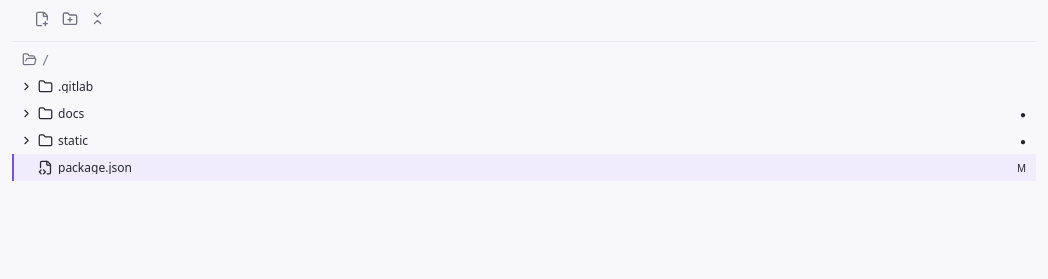
Test: decorates changed files and collapsed ancestors without relying on color alone
This screenshot has width=1048, height=279.
Check: the list item "package.json" shows "M", box [12, 154, 1036, 181]
Click the list item "docs" at (26, 114), box [12, 100, 1036, 127]
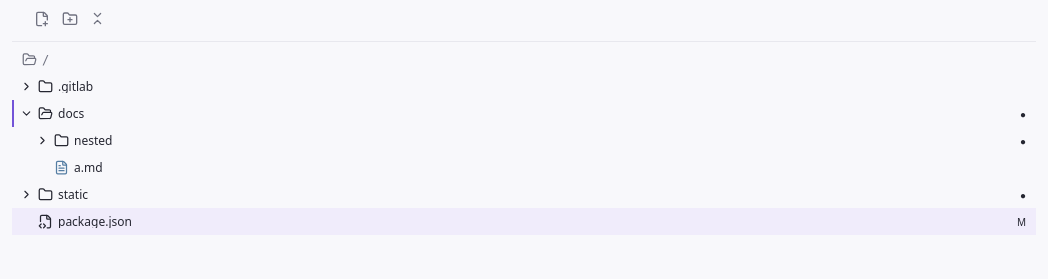
Click the list item "nested" at (93, 140), box [12, 127, 1036, 154]
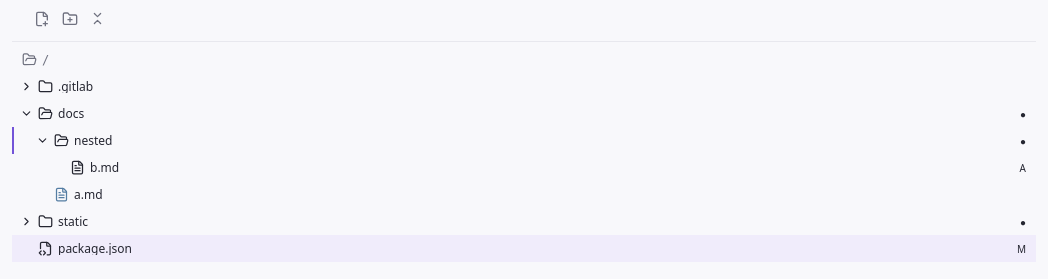
Check: the list item "b.md" shows "A", box [12, 154, 1036, 181]
